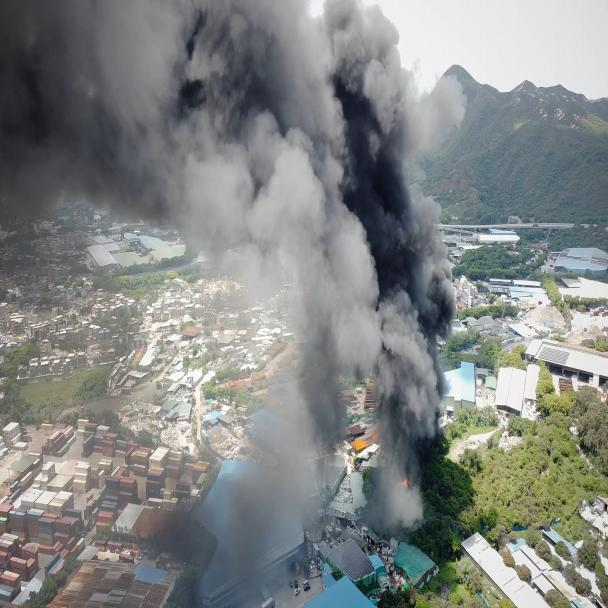smoke: (4, 3, 465, 560)
